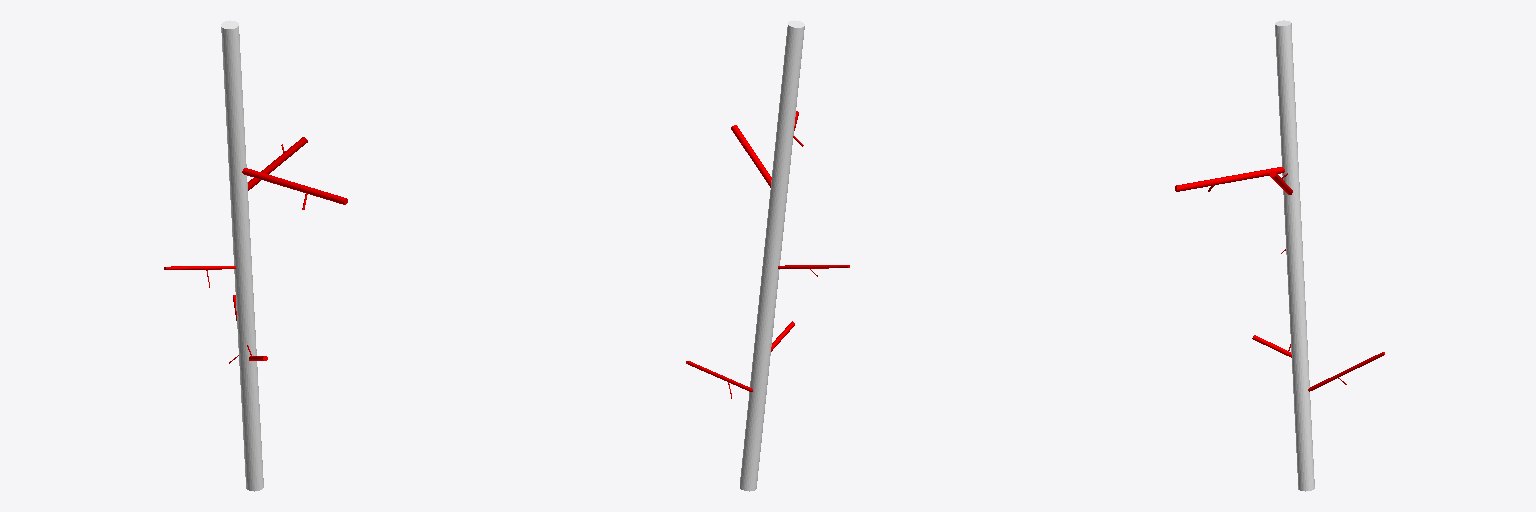
URDF robot description (tree_112.urdf):
<?xml version='1.0' encoding='UTF-8'?>
<robot name="tree_112.urdf">
  <link name="branch_0">
    <inertial>
      <origin xyz="0.0 0.0 0.0" rpy="0.0 -0.0 0.0"/>
      <mass value="0.1"/>
      <inertia ixx="0.001" ixy="0.0" ixz="0.0" iyy="0.001" iyz="0.0" izz="0.001"/>
    </inertial>
    <visual name="branch_0_visual">
      <geometry>
        <cylinder radius="0.16293271087978106" length="9.673029781325994"/>
      </geometry>
      <material name="branch_material"/>
      <origin xyz="-0.3935634834921031 -0.22834957390312044 4.815063919011329" rpy="0.0 0.0942177793662992 -2.6158515359015126"/>
    </visual>
    <collision name="branch_0_collision">
      <geometry>
        <cylinder radius="0.16293271087978106" length="9.673029781325994"/>
      </geometry>
      <origin xyz="-0.3935634834921031 -0.22834957390312044 4.815063919011329" rpy="0.0 0.0942177793662992 -2.6158515359015126"/>
    </collision>
  </link>
  <link name="branch_1">
    <inertial>
      <origin xyz="0.0 0.0 0.0" rpy="0.0 -0.0 0.0"/>
      <mass value="0.1"/>
      <inertia ixx="0.001" ixy="0.0" ixz="0.0" iyy="0.001" iyz="0.0" izz="0.001"/>
    </inertial>
    <visual name="branch_1_visual">
      <geometry>
        <cylinder radius="0.03667278818542085" length="2.0614038241679453"/>
      </geometry>
      <material name="semantic_material"/>
      <origin xyz="0.0 0.0 0.0" rpy="0.0 -0.0 0.0"/>
    </visual>
    <collision name="branch_1_collision">
      <geometry>
        <cylinder radius="0.03667278818542085" length="2.0614038241679453"/>
      </geometry>
      <origin xyz="0.0 0.0 0.0" rpy="0.0 -0.0 0.0"/>
    </collision>
  </link>
  <link name="branch_2">
    <inertial>
      <origin xyz="0.0 0.0 0.0" rpy="0.0 -0.0 0.0"/>
      <mass value="0.1"/>
      <inertia ixx="0.001" ixy="0.0" ixz="0.0" iyy="0.001" iyz="0.0" izz="0.001"/>
    </inertial>
    <visual name="branch_2_visual">
      <geometry>
        <cylinder radius="0.010218928271512166" length="0.3731866401437554"/>
      </geometry>
      <material name="semantic_material"/>
      <origin xyz="0.0 0.0 0.0" rpy="0.0 -0.0 0.0"/>
    </visual>
    <collision name="branch_2_collision">
      <geometry>
        <cylinder radius="0.010218928271512166" length="0.3731866401437554"/>
      </geometry>
      <origin xyz="0.0 0.0 0.0" rpy="0.0 -0.0 0.0"/>
    </collision>
  </link>
  <link name="branch_3">
    <inertial>
      <origin xyz="0.0 0.0 0.0" rpy="0.0 -0.0 0.0"/>
      <mass value="0.1"/>
      <inertia ixx="0.001" ixy="0.0" ixz="0.0" iyy="0.001" iyz="0.0" izz="0.001"/>
    </inertial>
    <visual name="branch_3_visual">
      <geometry>
        <cylinder radius="0.047621247794962684" length="1.017714899076163"/>
      </geometry>
      <material name="semantic_material"/>
      <origin xyz="0.0 0.0 0.0" rpy="0.0 -0.0 0.0"/>
    </visual>
    <collision name="branch_3_collision">
      <geometry>
        <cylinder radius="0.047621247794962684" length="1.017714899076163"/>
      </geometry>
      <origin xyz="0.0 0.0 0.0" rpy="0.0 -0.0 0.0"/>
    </collision>
  </link>
  <link name="branch_4">
    <inertial>
      <origin xyz="0.0 0.0 0.0" rpy="0.0 -0.0 0.0"/>
      <mass value="0.1"/>
      <inertia ixx="0.001" ixy="0.0" ixz="0.0" iyy="0.001" iyz="0.0" izz="0.001"/>
    </inertial>
    <visual name="branch_4_visual">
      <geometry>
        <cylinder radius="0.011833008742789064" length="0.27104844654666965"/>
      </geometry>
      <material name="semantic_material"/>
      <origin xyz="0.0 0.0 0.0" rpy="0.0 -0.0 0.0"/>
    </visual>
    <collision name="branch_4_collision">
      <geometry>
        <cylinder radius="0.011833008742789064" length="0.27104844654666965"/>
      </geometry>
      <origin xyz="0.0 0.0 0.0" rpy="0.0 -0.0 0.0"/>
    </collision>
  </link>
  <link name="branch_5">
    <inertial>
      <origin xyz="0.0 0.0 0.0" rpy="0.0 -0.0 0.0"/>
      <mass value="0.1"/>
      <inertia ixx="0.001" ixy="0.0" ixz="0.0" iyy="0.001" iyz="0.0" izz="0.001"/>
    </inertial>
    <visual name="branch_5_visual">
      <geometry>
        <cylinder radius="0.06473749945110625" length="2.4343922339091835"/>
      </geometry>
      <material name="semantic_material"/>
      <origin xyz="0.0 0.0 0.0" rpy="0.0 -0.0 0.0"/>
    </visual>
    <collision name="branch_5_collision">
      <geometry>
        <cylinder radius="0.06473749945110625" length="2.4343922339091835"/>
      </geometry>
      <origin xyz="0.0 0.0 0.0" rpy="0.0 -0.0 0.0"/>
    </collision>
  </link>
  <link name="branch_6">
    <inertial>
      <origin xyz="0.0 0.0 0.0" rpy="0.0 -0.0 0.0"/>
      <mass value="0.1"/>
      <inertia ixx="0.001" ixy="0.0" ixz="0.0" iyy="0.001" iyz="0.0" izz="0.001"/>
    </inertial>
    <visual name="branch_6_visual">
      <geometry>
        <cylinder radius="0.020749828966809304" length="0.3744668338877786"/>
      </geometry>
      <material name="semantic_material"/>
      <origin xyz="0.0 0.0 0.0" rpy="0.0 -0.0 0.0"/>
    </visual>
    <collision name="branch_6_collision">
      <geometry>
        <cylinder radius="0.020749828966809304" length="0.3744668338877786"/>
      </geometry>
      <origin xyz="0.0 0.0 0.0" rpy="0.0 -0.0 0.0"/>
    </collision>
  </link>
  <link name="branch_7">
    <inertial>
      <origin xyz="0.0 0.0 0.0" rpy="0.0 -0.0 0.0"/>
      <mass value="0.1"/>
      <inertia ixx="0.001" ixy="0.0" ixz="0.0" iyy="0.001" iyz="0.0" izz="0.001"/>
    </inertial>
    <visual name="branch_7_visual">
      <geometry>
        <cylinder radius="0.03322740791165555" length="1.7101782679273854"/>
      </geometry>
      <material name="semantic_material"/>
      <origin xyz="0.0 0.0 0.0" rpy="0.0 -0.0 0.0"/>
    </visual>
    <collision name="branch_7_collision">
      <geometry>
        <cylinder radius="0.03322740791165555" length="1.7101782679273854"/>
      </geometry>
      <origin xyz="0.0 0.0 0.0" rpy="0.0 -0.0 0.0"/>
    </collision>
  </link>
  <link name="branch_8">
    <inertial>
      <origin xyz="0.0 0.0 0.0" rpy="0.0 -0.0 0.0"/>
      <mass value="0.1"/>
      <inertia ixx="0.001" ixy="0.0" ixz="0.0" iyy="0.001" iyz="0.0" izz="0.001"/>
    </inertial>
    <visual name="branch_8_visual">
      <geometry>
        <cylinder radius="0.010015692803304154" length="0.37986938888562727"/>
      </geometry>
      <material name="semantic_material"/>
      <origin xyz="0.0 0.0 0.0" rpy="0.0 -0.0 0.0"/>
    </visual>
    <collision name="branch_8_collision">
      <geometry>
        <cylinder radius="0.010015692803304154" length="0.37986938888562727"/>
      </geometry>
      <origin xyz="0.0 0.0 0.0" rpy="0.0 -0.0 0.0"/>
    </collision>
  </link>
  <link name="branch_9">
    <inertial>
      <origin xyz="0.0 0.0 0.0" rpy="0.0 -0.0 0.0"/>
      <mass value="0.1"/>
      <inertia ixx="0.001" ixy="0.0" ixz="0.0" iyy="0.001" iyz="0.0" izz="0.001"/>
    </inertial>
    <visual name="branch_9_visual">
      <geometry>
        <cylinder radius="0.06473768448087362" length="1.5838166940740808"/>
      </geometry>
      <material name="semantic_material"/>
      <origin xyz="0.0 0.0 0.0" rpy="0.0 -0.0 0.0"/>
    </visual>
    <collision name="branch_9_collision">
      <geometry>
        <cylinder radius="0.06473768448087362" length="1.5838166940740808"/>
      </geometry>
      <origin xyz="0.0 0.0 0.0" rpy="0.0 -0.0 0.0"/>
    </collision>
  </link>
  <link name="branch_10">
    <inertial>
      <origin xyz="0.0 0.0 0.0" rpy="0.0 -0.0 0.0"/>
      <mass value="0.1"/>
      <inertia ixx="0.001" ixy="0.0" ixz="0.0" iyy="0.001" iyz="0.0" izz="0.001"/>
    </inertial>
    <visual name="branch_10_visual">
      <geometry>
        <cylinder radius="0.015142799748795139" length="0.23328261703143244"/>
      </geometry>
      <material name="semantic_material"/>
      <origin xyz="0.0 0.0 0.0" rpy="0.0 -0.0 0.0"/>
    </visual>
    <collision name="branch_10_collision">
      <geometry>
        <cylinder radius="0.015142799748795139" length="0.23328261703143244"/>
      </geometry>
      <origin xyz="0.0 0.0 0.0" rpy="0.0 -0.0 0.0"/>
    </collision>
  </link>
  <joint name="joint_0_1" type="fixed">
    <parent link="branch_0"/>
    <child link="branch_1"/>
    <axis xyz="1. 0. 0."/>
    <origin xyz="0.14151962403745832 0.7079399656816489 2.539338647569016" rpy="-0.1017097247237342 0.9769585528608996 1.0875894104506774"/>
  </joint>
  <joint name="joint_0_3" type="fixed">
    <parent link="branch_0"/>
    <child link="branch_3"/>
    <axis xyz="1. 0. 0."/>
    <origin xyz="-0.3004756310142652 -0.585817857271988 2.8799328026686783" rpy="0.18220169170110723 1.1507645499579786 -1.5479971979550398"/>
  </joint>
  <joint name="joint_0_5" type="fixed">
    <parent link="branch_0"/>
    <child link="branch_5"/>
    <axis xyz="1. 0. 0."/>
    <origin xyz="-0.05248575566926668 -1.42883563268249 6.636479273000047" rpy="1.4988371384239867 1.4769157398165915 0.342039128476167"/>
  </joint>
  <joint name="joint_0_7" type="fixed">
    <parent link="branch_0"/>
    <child link="branch_7"/>
    <axis xyz="1. 0. 0."/>
    <origin xyz="-1.2066163080601267 -0.24154767960513143 4.771491260821076" rpy="-0.19948735757310296 1.3373623817775504 2.966069238581814"/>
  </joint>
  <joint name="joint_0_9" type="fixed">
    <parent link="branch_0"/>
    <child link="branch_9"/>
    <axis xyz="1. 0. 0."/>
    <origin xyz="0.09748806806233429 -0.4726179544857798 6.590671747719824" rpy="0.10639809902309708 0.9026722578728599 -0.1628397718053277"/>
  </joint>
  <joint name="joint_1_2" type="fixed">
    <parent link="branch_0"/>
    <child link="branch_2"/>
    <axis xyz="1. 0. 0."/>
    <origin xyz="0.00041931245987748454 0.6805995377812312 2.3231477836287584" rpy="2.4753661271252545 0.46651896727294156 -1.8117758291888695"/>
  </joint>
  <joint name="joint_3_4" type="fixed">
    <parent link="branch_0"/>
    <child link="branch_4"/>
    <axis xyz="1. 0. 0."/>
    <origin xyz="-0.28947114591730405 -0.3216864860914234 2.906281259137675" rpy="-0.2543161705862477 0.26679174078713036 1.4357973443162606"/>
  </joint>
  <joint name="joint_5_6" type="fixed">
    <parent link="branch_0"/>
    <child link="branch_6"/>
    <axis xyz="1. 0. 0."/>
    <origin xyz="0.00011451951537225512 -1.8307949830964514 6.494647394370426" rpy="-2.4657472934400344 0.16028560201465478 2.1064647369784555"/>
  </joint>
  <joint name="joint_7_8" type="fixed">
    <parent link="branch_0"/>
    <child link="branch_8"/>
    <axis xyz="1. 0. 0."/>
    <origin xyz="-1.1914094719210666 -0.364839922554451 4.620990013026557" rpy="2.4255271696622285 0.2578912925193029 0.0033881866229121984"/>
  </joint>
  <joint name="joint_9_10" type="fixed">
    <parent link="branch_0"/>
    <child link="branch_10"/>
    <axis xyz="1. 0. 0."/>
    <origin xyz="0.33771734969992245 -0.45420757754152635 6.84959026770197" rpy="0.7712687283737104 0.4383352817348495 2.5451570967531736"/>
  </joint>
  <material name="branch_material">
    <color rgba="1. 1. 1. 1."/>
  </material>
  <material name="semantic_material">
    <color rgba="1. 0. 0. 1."/>
  </material>
</robot>

--- Facts derived from the render (not from the file) ---
The picture shows the robot from 3 angles, left to right: view 1: azimuth 30°, elevation 25°; view 2: azimuth 150°, elevation 25°; view 3: azimuth 270°, elevation 25°; orthographic projection.
Model tree_112.urdf with 11 links and 10 joints (10 fixed), rooted at branch_0, posed every joint at zero.
Links seen in each view (by area): view 1: branch_0, branch_5; view 2: branch_0; view 3: branch_0, branch_5.
Boxes of the visible links, box(x1,y1,x2,y2) form: branch_0: box(221, 20, 263, 491); branch_5: box(242, 168, 347, 204); branch_0: box(740, 20, 804, 491); branch_0: box(1275, 20, 1314, 491); branch_5: box(1175, 167, 1284, 191).
Size in the robot's own frame: 2.78 by 4.1 by 9.66 metres.
Geometry: primitives only (box / cylinder / sphere), no mesh files.
